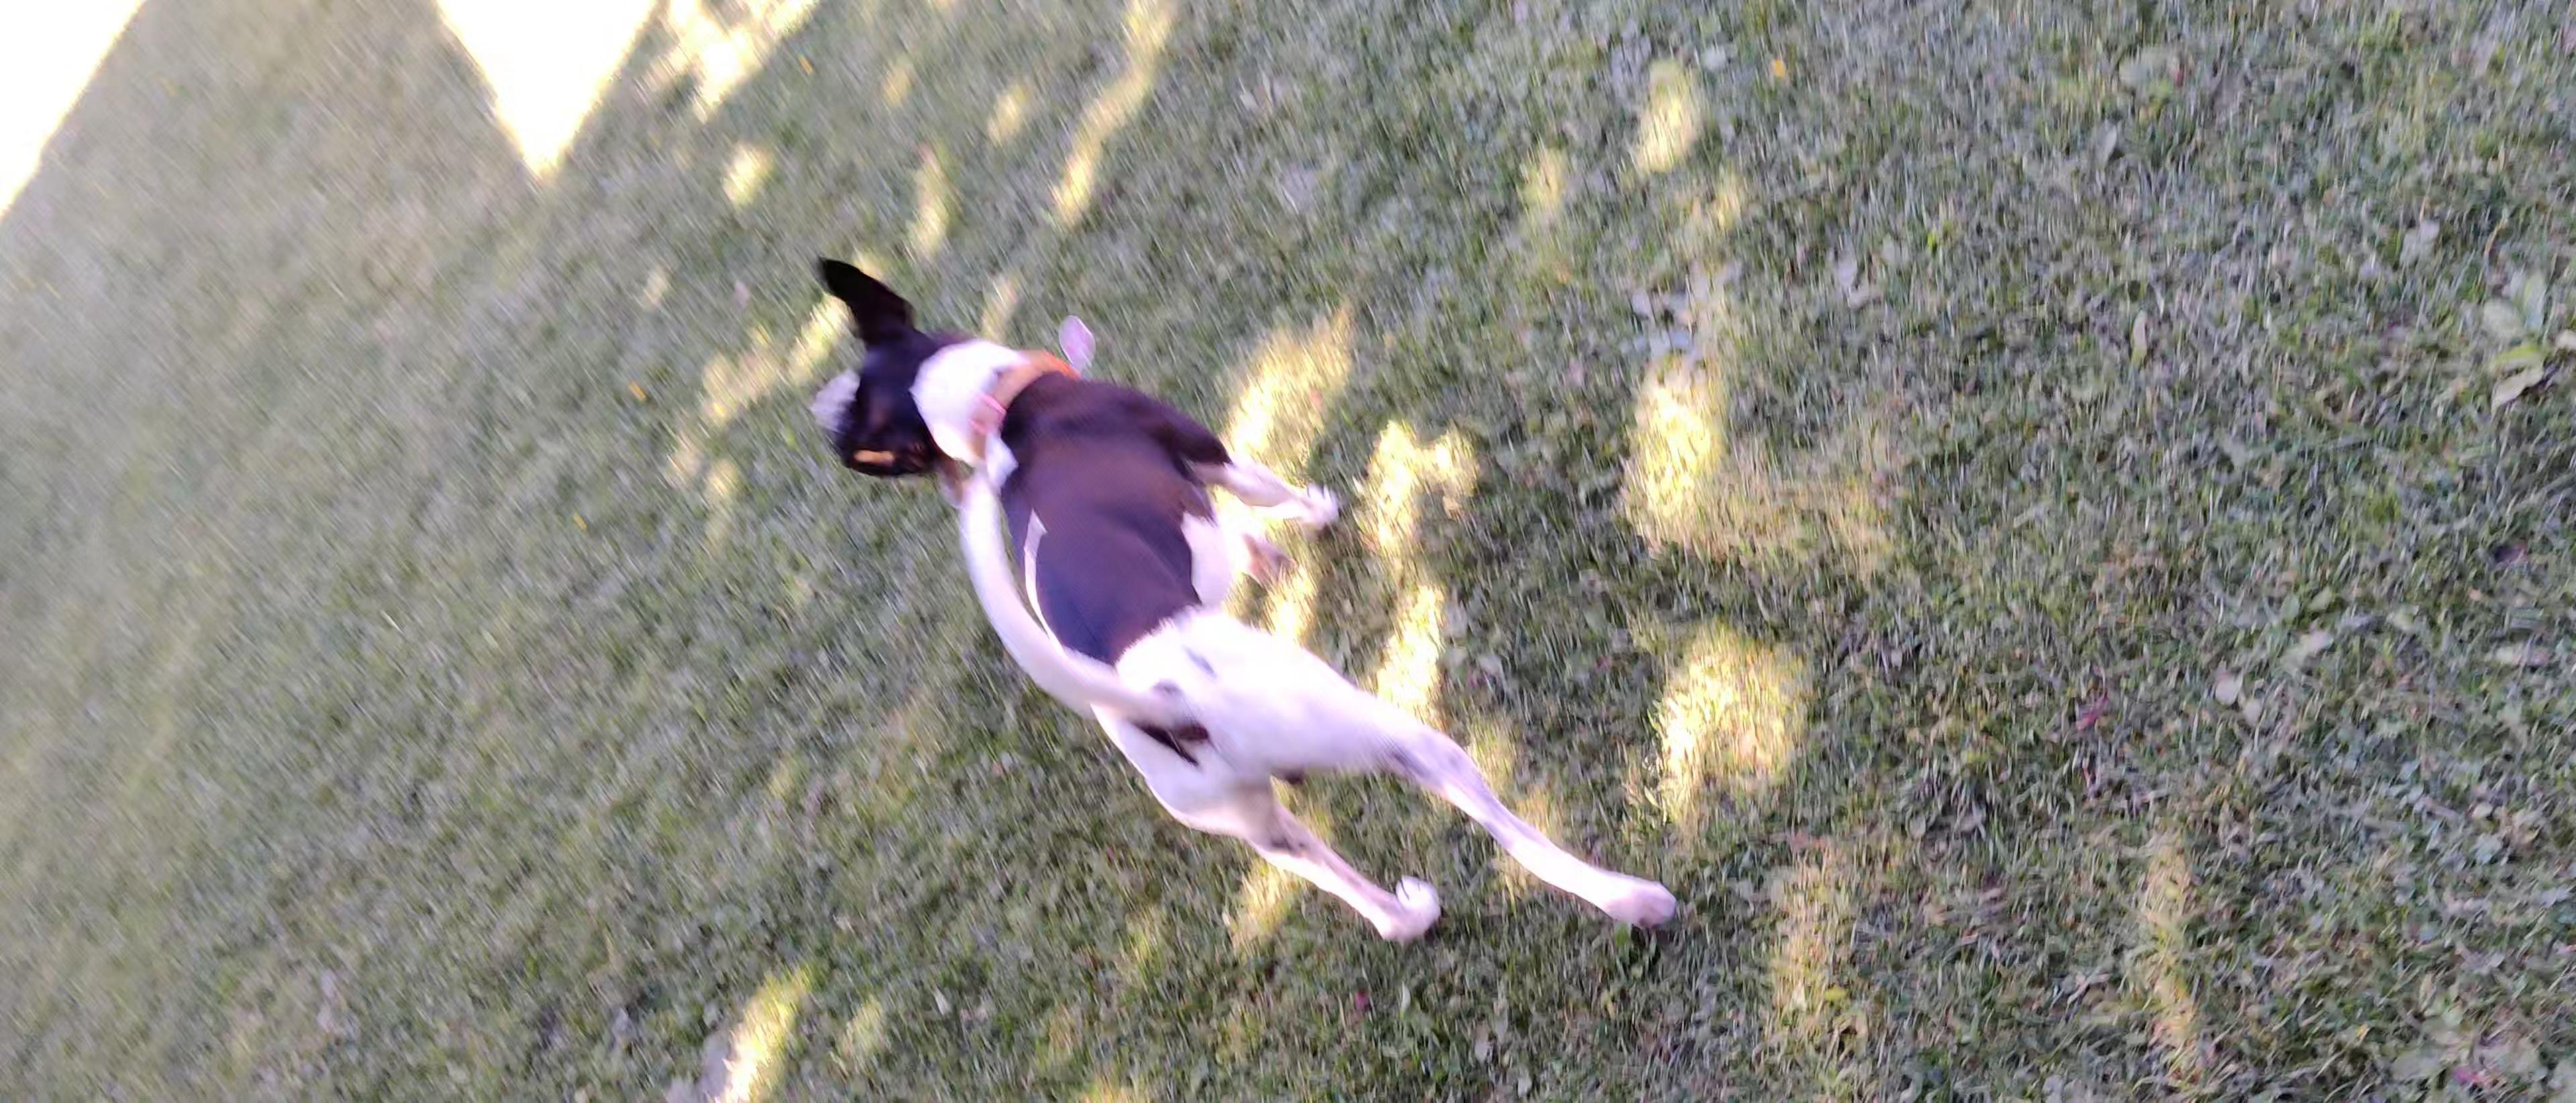Dog: (805, 205, 1674, 955)
